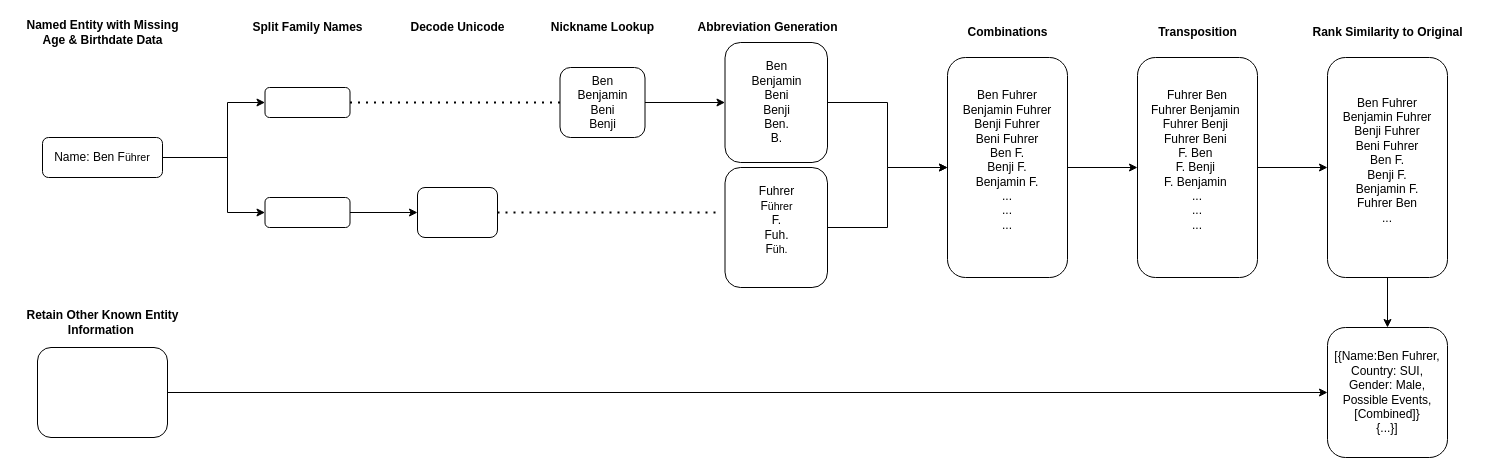
Image size: 1489x475. Some labels were removed from this diagram. Here are the shapes that lost their labels. From the top down, the box of each, then its label:
(264, 86, 350, 118): Ben
(264, 196, 350, 228): F ührer
(416, 186, 498, 238): Fuhrer F ührer
(36, 346, 168, 438): Country: SUI Gender: Male Event: Combined Age: ? Birthdate: ?
